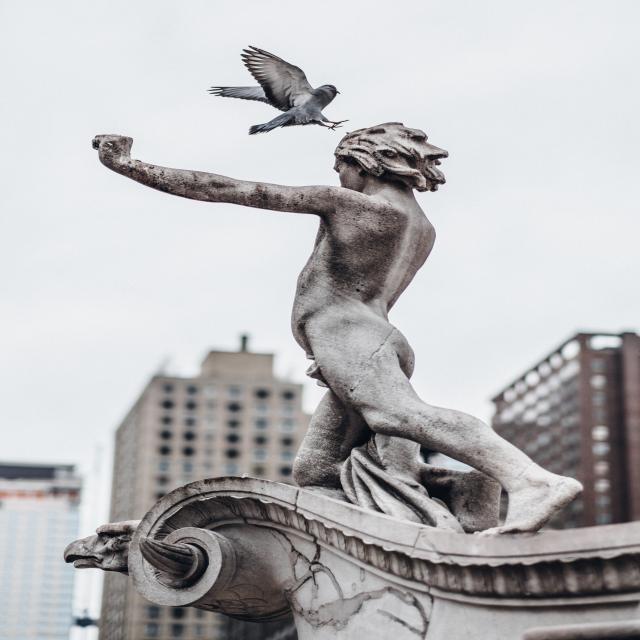Concrete: (67, 124, 640, 640)
